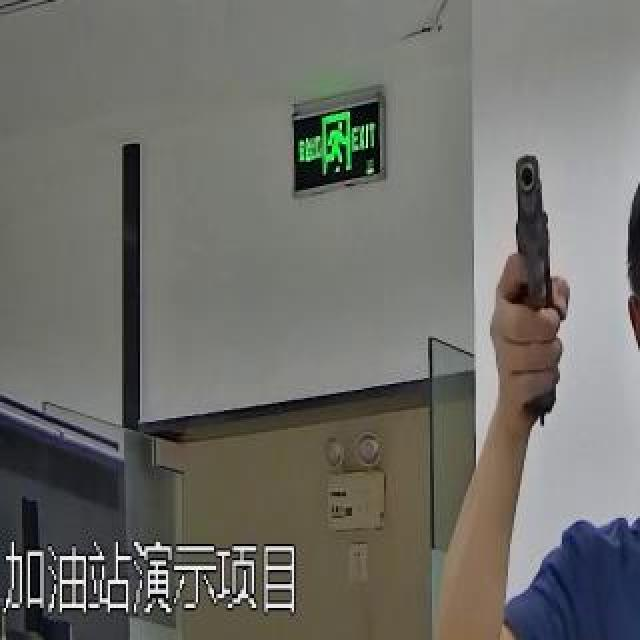Guns: (497, 141, 590, 413)
